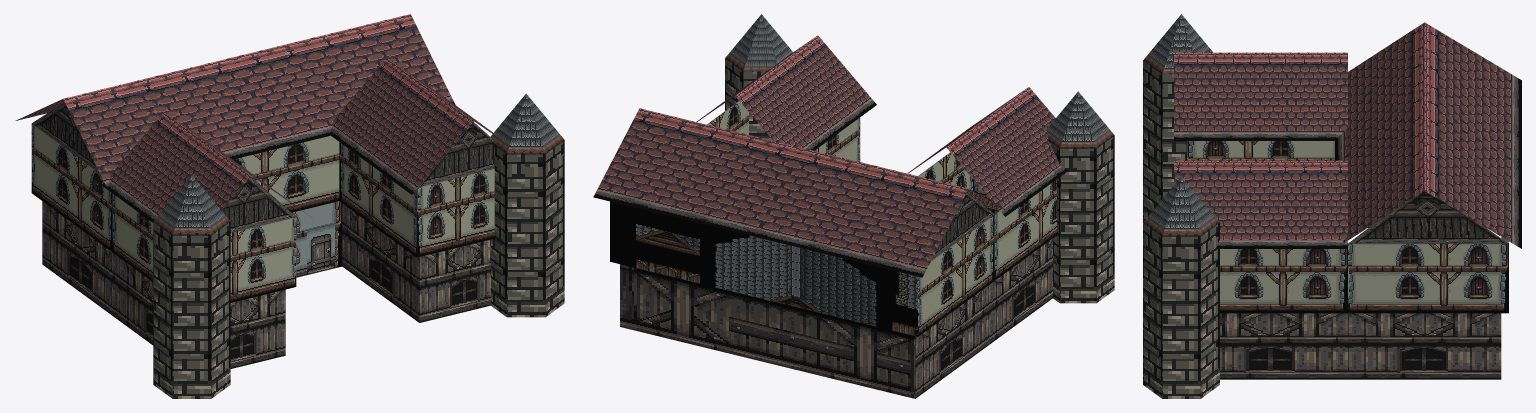
File: manor.glb
The picture shows the model from 3 angles, left to right: view 1: azimuth 30°, elevation 25°; view 2: azimuth 150°, elevation 25°; view 3: azimuth 270°, elevation 25°; orthographic projection. The views are drawn at different scales.
Parts seen in each view (by area): view 1: Roof_BackFront, Roof_RightInner, Roof_LeftOuter, TowerL_Wall_3, TowerR_Wall_3, Upper_BackLeft, Upper_RightFront, Upper_BackInner, Ground_RightInner, Ground_BackLeft, Ground_RightFront, Upper_LeftFront (+18 smaller); view 2: Roof_BackRear, Upper_Back, Ground_Back, Roof_RightInner, Roof_LeftOuter, TowerL_Wall_1, Upper_BackLeft, Ground_BackLeft, Ground_LeftOuter, Upper_LeftOuter, TowerL_Wall_2, Gable_BackLeft (+12 smaller); view 3: Roof_BackRear, Roof_LeftInner, Roof_BackFront, Roof_RightOuter, Upper_BackRight, Ground_BackRight, Ground_RightOuter, Upper_RightOuter, TowerR_Wall_5, Gable_BackRight, TowerR_Wall_4, TowerR_Wall_0 (+9 smaller).
Boxes of the visible parts, x1,y1,x2,y2 form: Roof_BackFront: (63, 14, 455, 189); Roof_RightInner: (331, 58, 473, 194); Roof_LeftOuter: (102, 112, 250, 222); TowerL_Wall_3: (172, 235, 211, 398); TowerR_Wall_3: (507, 154, 545, 317); Upper_BackLeft: (31, 123, 112, 251); Upper_RightFront: (416, 168, 494, 257); Upper_BackInner: (233, 135, 339, 212); Ground_RightInner: (342, 203, 419, 322); Ground_BackLeft: (42, 201, 119, 320); Ground_RightFront: (419, 239, 490, 322); Upper_LeftFront: (230, 217, 296, 302); Roof_BackRear: (593, 108, 968, 277); Upper_Back: (610, 201, 917, 336); Ground_Back: (620, 264, 915, 398); Roof_RightInner: (735, 35, 876, 150); Roof_LeftOuter: (946, 87, 1067, 216); TowerL_Wall_1: (1060, 148, 1096, 303); Upper_BackLeft: (918, 215, 994, 336); Ground_BackLeft: (915, 286, 988, 398); Ground_LeftOuter: (988, 238, 1052, 345); Upper_LeftOuter: (994, 179, 1056, 280); TowerL_Wall_2: (1096, 136, 1114, 302); Gable_BackLeft: (931, 193, 994, 260); Roof_BackRear: (1424, 22, 1521, 248); Roof_LeftInner: (1174, 52, 1347, 140); Roof_BackFront: (1335, 22, 1424, 247); Roof_RightOuter: (1174, 160, 1347, 248); Upper_BackRight: (1348, 243, 1508, 313); Ground_BackRight: (1348, 313, 1501, 379); Ground_RightOuter: (1220, 313, 1347, 379); Upper_RightOuter: (1220, 249, 1347, 313); TowerR_Wall_5: (1162, 236, 1200, 398); Gable_BackRight: (1348, 191, 1508, 243); TowerR_Wall_4: (1143, 223, 1162, 398); TowerR_Wall_0: (1200, 223, 1219, 398).
Size of what is drawn, in the model's own units: 17.6 by 9 by 14.8.
Materials: 1 (1 with a texture image).
